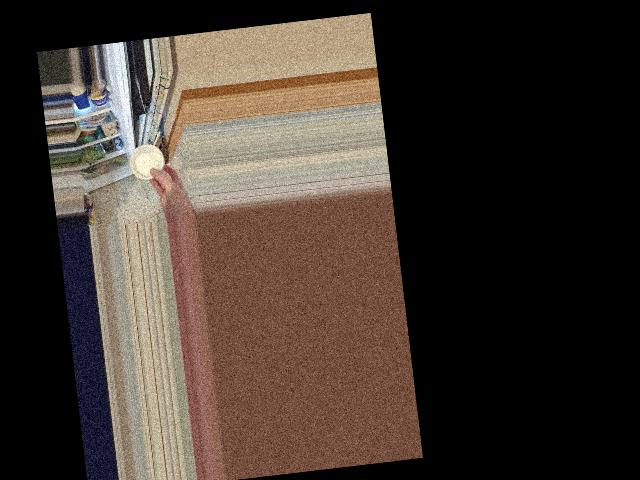cotage: (130, 142, 169, 181)
